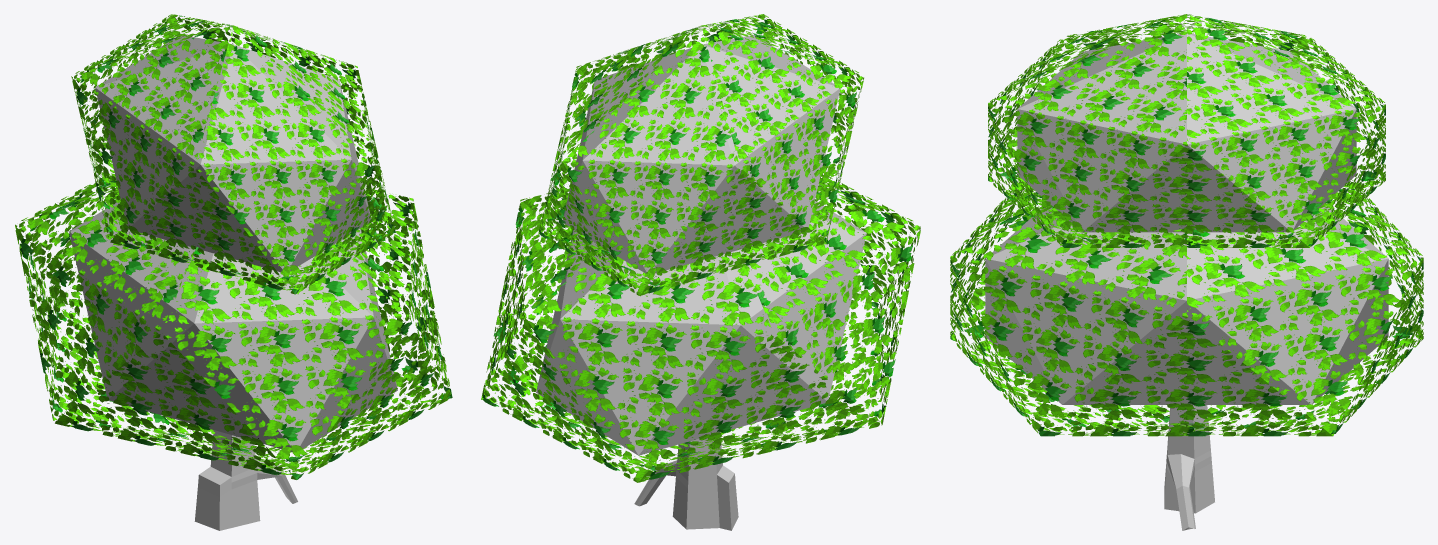
Rendered from tree1.fbx.
The picture shows the model from 3 angles, left to right: view 1: azimuth 30°, elevation 25°; view 2: azimuth 150°, elevation 25°; view 3: azimuth 270°, elevation 25°; orthographic projection.
Visible parts, largest first — view 1: Icosphere.002, Icosphere.001, Icosphere.003, Icosphere.004, Cone; view 2: Icosphere.002, Icosphere.001, Icosphere.003, Icosphere.004, Cone; view 3: Icosphere.002, Icosphere.001, Icosphere.003, Icosphere.004, Cone.
Boxes of the visible parts, box(x1,y1,x2,y2) form: Icosphere.002: box(15, 175, 452, 479); Icosphere.001: box(71, 14, 395, 294); Icosphere.003: box(69, 202, 397, 451); Icosphere.004: box(95, 35, 371, 272); Cone: box(194, 430, 297, 530); Icosphere.002: box(481, 174, 920, 482); Icosphere.001: box(538, 14, 863, 295); Icosphere.003: box(536, 201, 866, 455); Icosphere.004: box(563, 35, 840, 273); Cone: box(634, 437, 738, 530); Icosphere.002: box(950, 179, 1423, 436); Icosphere.001: box(988, 14, 1385, 247); Icosphere.003: box(985, 206, 1388, 404); Icosphere.004: box(1017, 33, 1356, 232); Cone: box(1164, 405, 1214, 530).
Bounding box in the file's own units: 1465 × 1911 × 1680.
